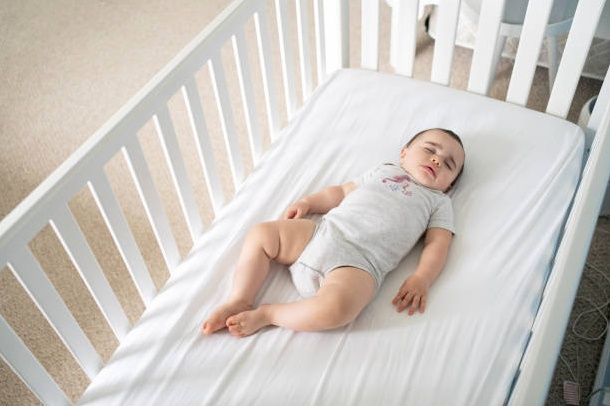baby: (202, 129, 464, 336)
crib: (0, 0, 609, 404)
